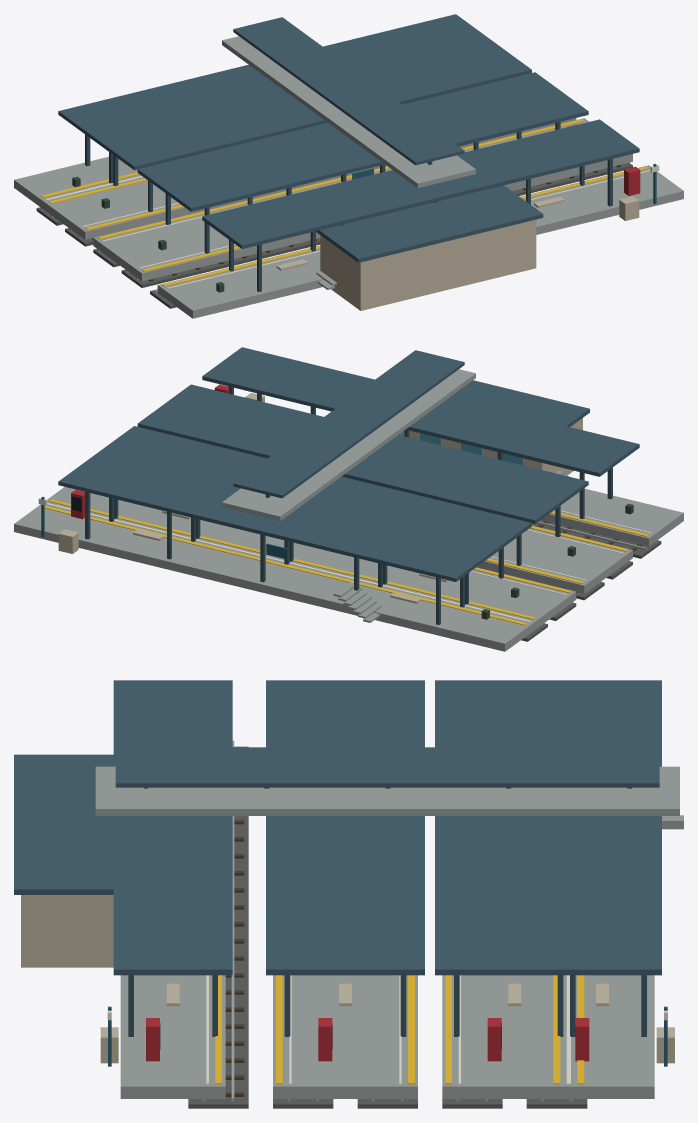
The model's file is station_5track_4platform.glb.
3 renders of one model, top to bottom at view 1: azimuth 30°, elevation 25°; view 2: azimuth 150°, elevation 25°; view 3: azimuth 270°, elevation 25°, orthographic. The views are drawn at different scales.
Parts seen in each view (by area): view 1: station_5track_4platform; view 2: station_5track_4platform; view 3: station_5track_4platform.
Part boxes in pixels (x1=…): station_5track_4platform: x1=14, y1=14, x2=683, y2=318; station_5track_4platform: x1=14, y1=347, x2=683, y2=651; station_5track_4platform: x1=14, y1=680, x2=683, y2=1108.
Bounding box in the file's own units: 42 × 9.01 × 33.25.
